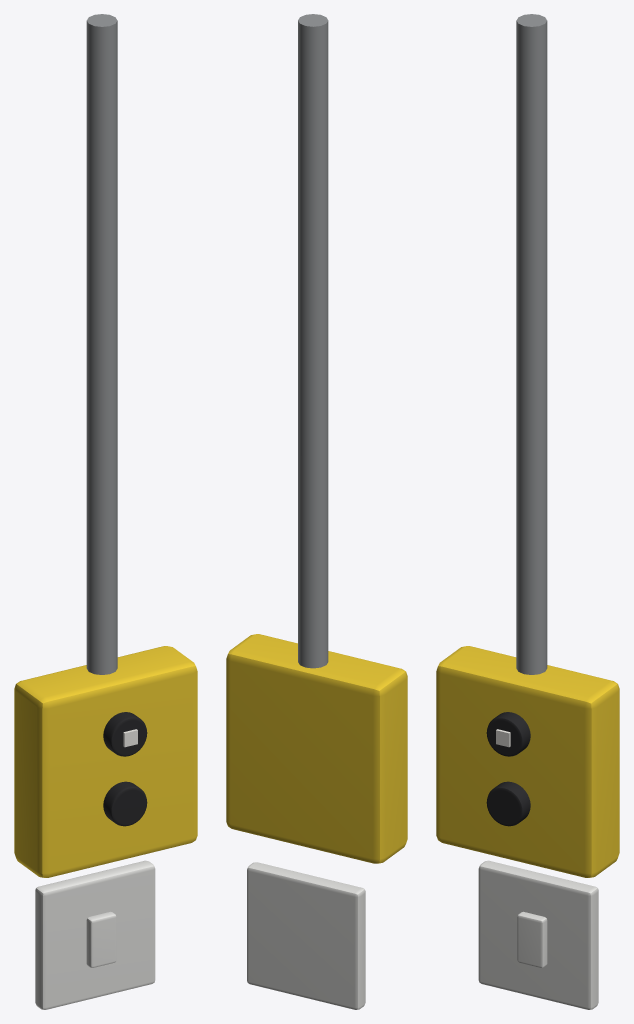
File: light_switches.glb
3 views of the same model, side by side, from view 1: azimuth 30°, elevation 25°; view 2: azimuth 150°, elevation 25°; view 3: azimuth 330°, elevation 25° (orthographic).
Visible parts, largest first — view 1: SM_light_switches; view 2: SM_light_switches; view 3: SM_light_switches.
Boxes of the visible parts, bbox=[...] form: SM_light_switches: bbox=[14, 14, 197, 1009]; SM_light_switches: bbox=[226, 14, 407, 1009]; SM_light_switches: bbox=[436, 14, 619, 1009].
Size of the model in its own units: 0.12 by 0.703 by 0.053.
